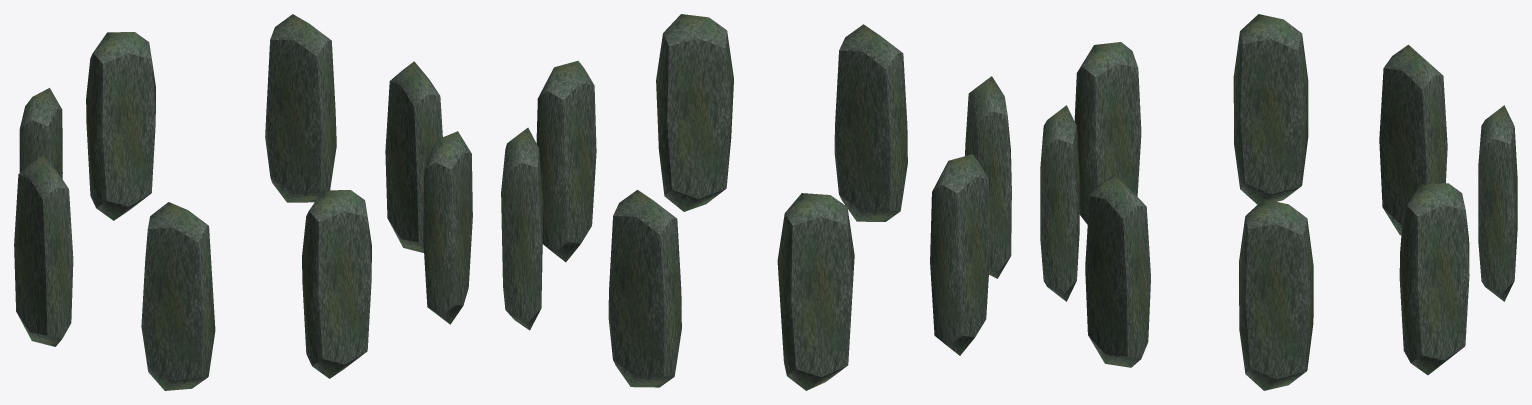
File: ruins03.obj
3 renders of one model, left to right at view 1: azimuth 30°, elevation 25°; view 2: azimuth 150°, elevation 25°; view 3: azimuth 270°, elevation 25°, orthographic. The views are drawn at different scales.
Visible parts, largest first — view 1: Duplicate09, Duplicate06, Duplicate03, Box02, Duplicate04, Duplicate08, Duplicate05, Duplicate07; view 2: Duplicate08, Duplicate07, Box02, Duplicate03, Duplicate04, Duplicate05, Duplicate06, Duplicate09; view 3: Duplicate05, Duplicate04, Duplicate06, Duplicate08, Duplicate07, Duplicate09, Duplicate03, Box02.
Boxes of the visible parts, <box> form: Duplicate09: <box>141,202,215,390</box>; Duplicate06: <box>265,14,336,202</box>; Duplicate03: <box>302,190,371,378</box>; Box02: <box>86,32,155,220</box>; Duplicate04: <box>14,154,73,346</box>; Duplicate08: <box>423,131,472,324</box>; Duplicate05: <box>385,61,442,252</box>; Duplicate07: <box>19,88,62,178</box>; Duplicate08: <box>656,14,733,211</box>; Duplicate07: <box>777,193,854,390</box>; Box02: <box>608,190,681,387</box>; Duplicate03: <box>834,24,907,221</box>; Duplicate04: <box>930,154,990,355</box>; Duplicate05: <box>536,60,596,262</box>; Duplicate06: <box>501,127,543,330</box>; Duplicate09: <box>965,76,1011,278</box>; Duplicate05: <box>1239,199,1313,390</box>; Duplicate04: <box>1233,14,1308,204</box>; Duplicate06: <box>1399,183,1469,375</box>; Duplicate08: <box>1085,173,1150,367</box>; Duplicate07: <box>1379,44,1447,235</box>; Duplicate09: <box>1074,42,1141,224</box>; Duplicate03: <box>1040,105,1079,301</box>; Box02: <box>1478,105,1517,301</box>.
Bounding box in the file's own units: 90.56 × 39 × 90.48.
